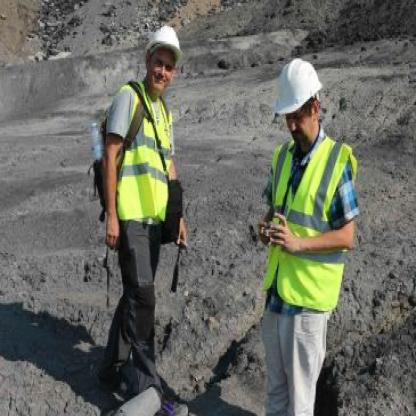person: (242, 38, 364, 415), (81, 22, 191, 414)
